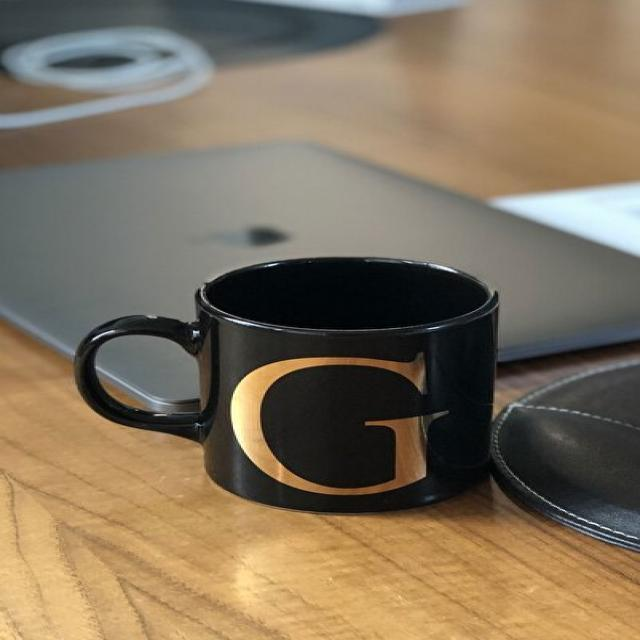taza: (74, 255, 502, 518)
